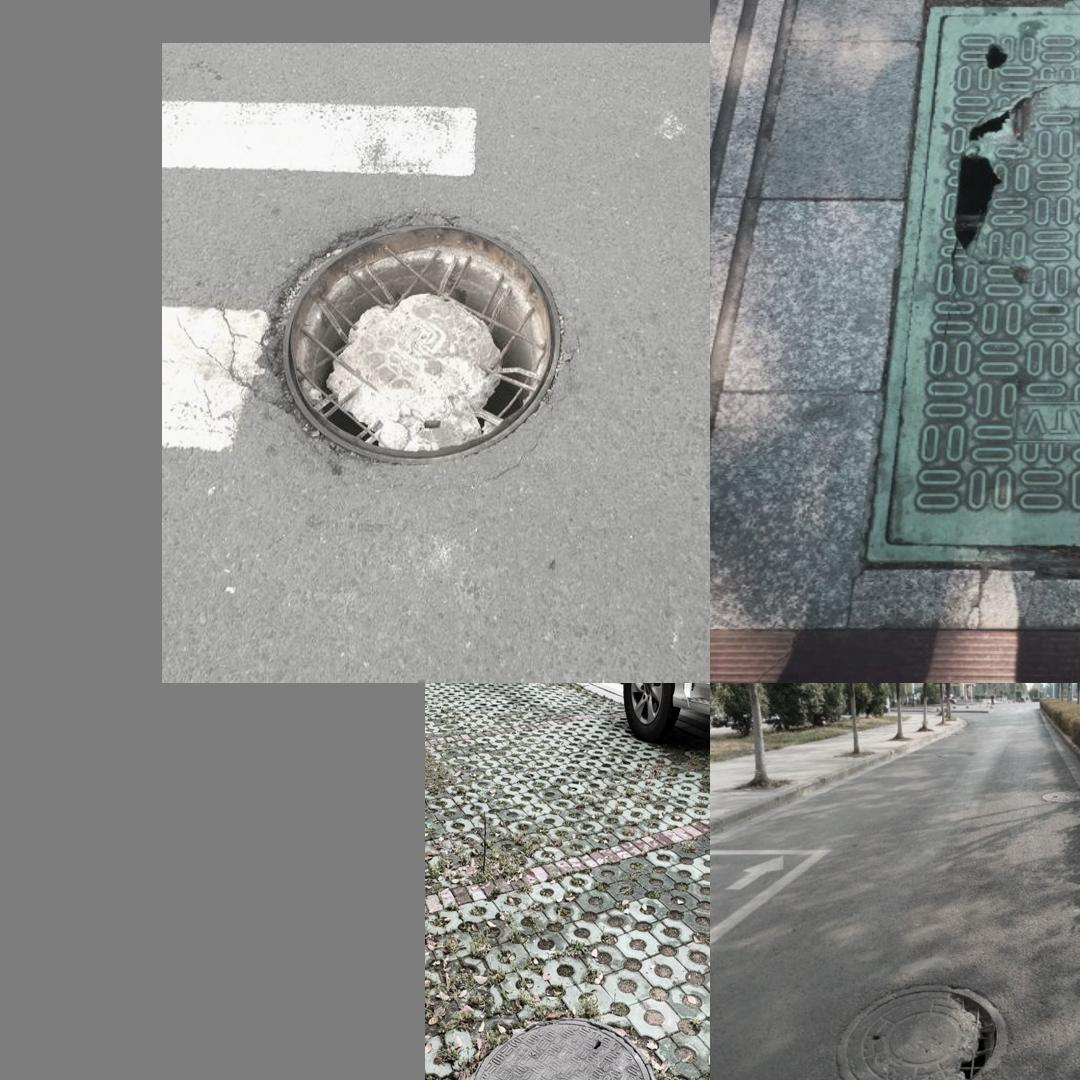broke: (863, 0, 1080, 566), (258, 196, 574, 471), (834, 981, 1007, 1080), (463, 1014, 662, 1080)
